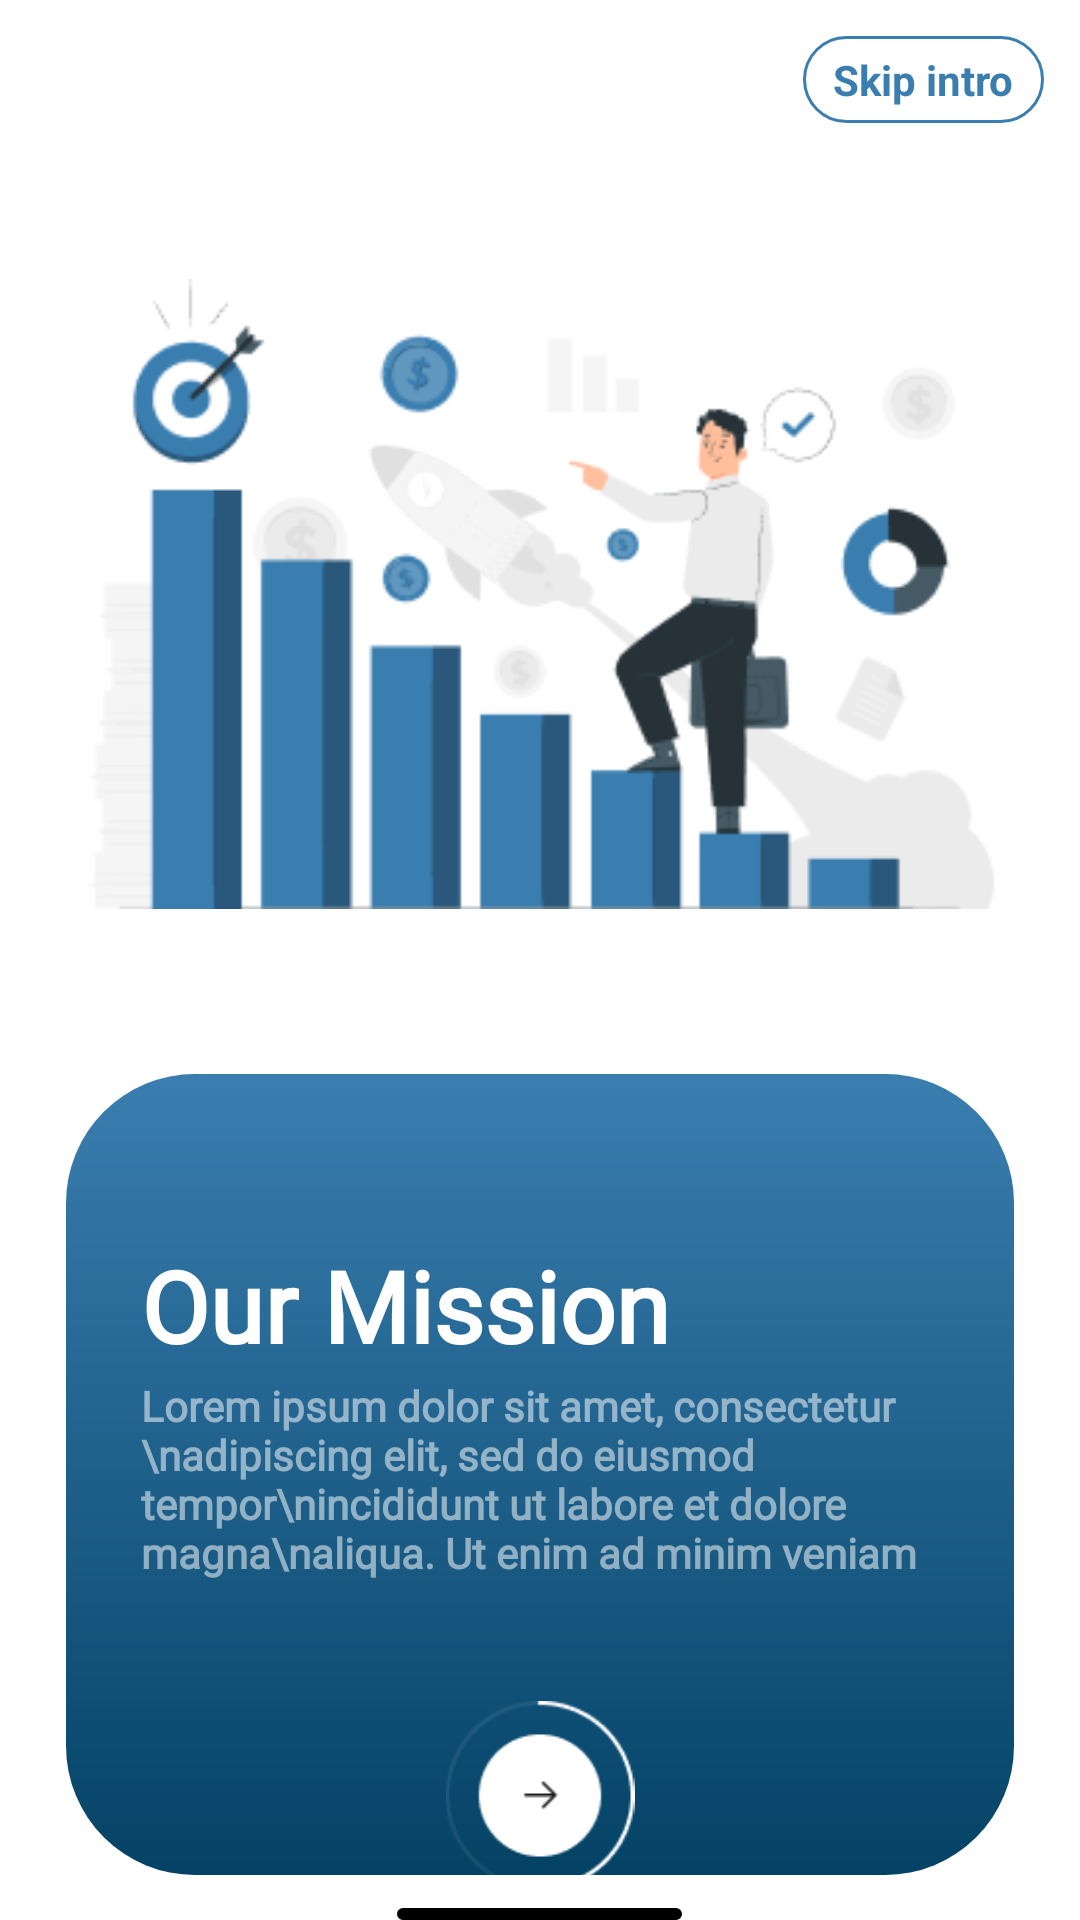

Icons on this 1080px x 1920px Android screen, each with the point to tap as [x,y]:
progressbtn: [540,1795]
